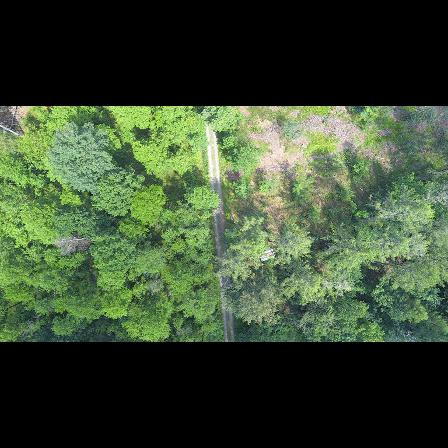Dead: (50, 231, 97, 257)
